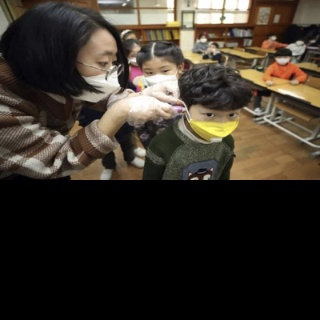with_mask: (76, 48, 120, 104), (184, 102, 240, 143), (140, 61, 179, 88), (126, 48, 140, 67), (275, 53, 292, 67), (296, 39, 304, 47), (200, 36, 207, 44), (271, 36, 277, 41)
